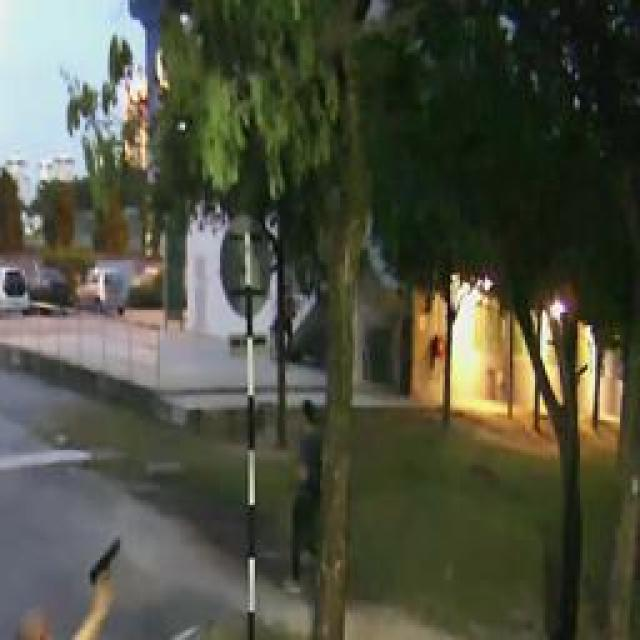Guns: (81, 524, 133, 625)
